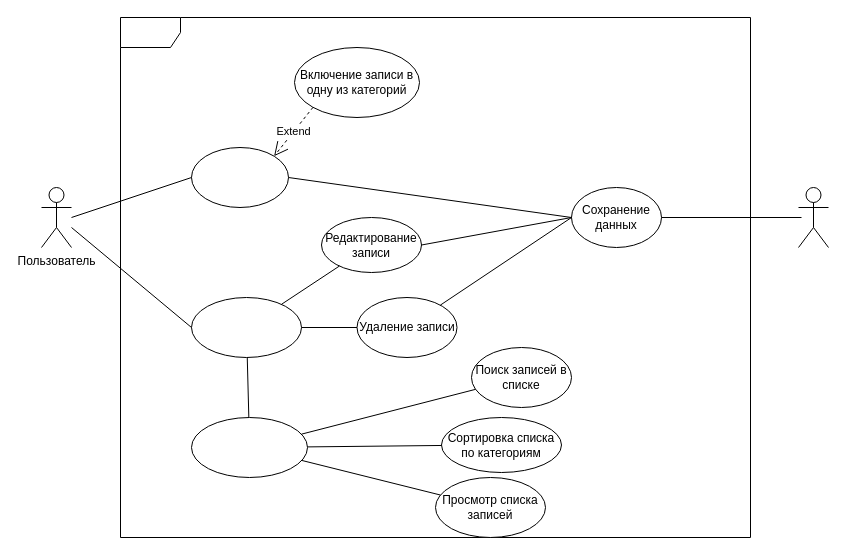
This 867x555 diagram has some shape labels left out. Each missing label, with the centre of its shape:
База Данных: point 813,217
Работа с записями: point 246,327
Работа со списком записей: point 249,447
Создание записи: point 239,177
